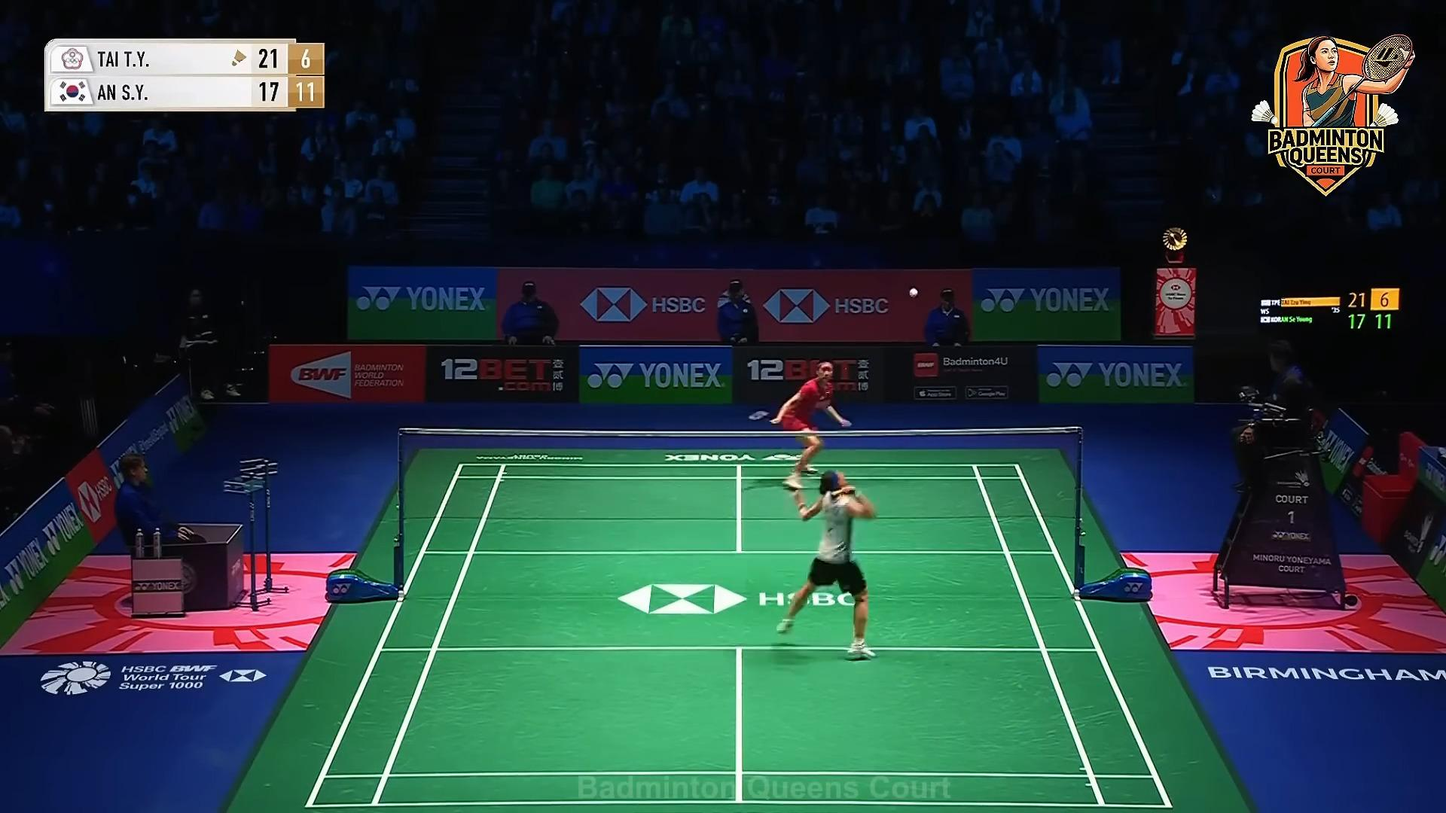player: (776, 470, 877, 661), (770, 357, 851, 492)
